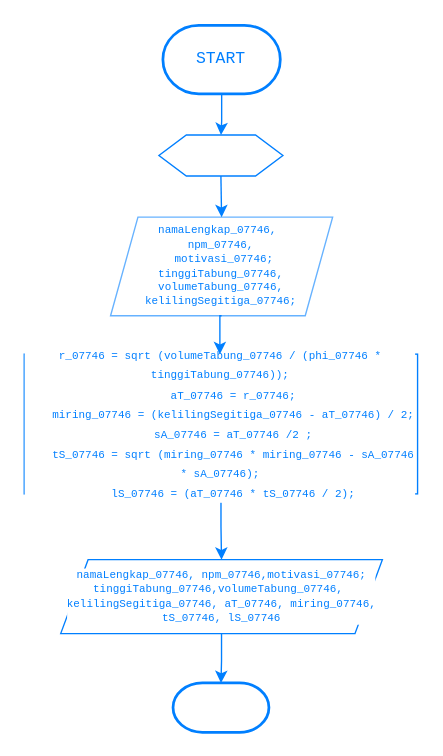
Some shapes in this 443 by 756 pixel diagram are drawn without their labels. Each missing label, with the centre of its shape:
"END" belongs at point (220, 707).
"Phi_07746= 3.14" belongs at point (220, 155).
